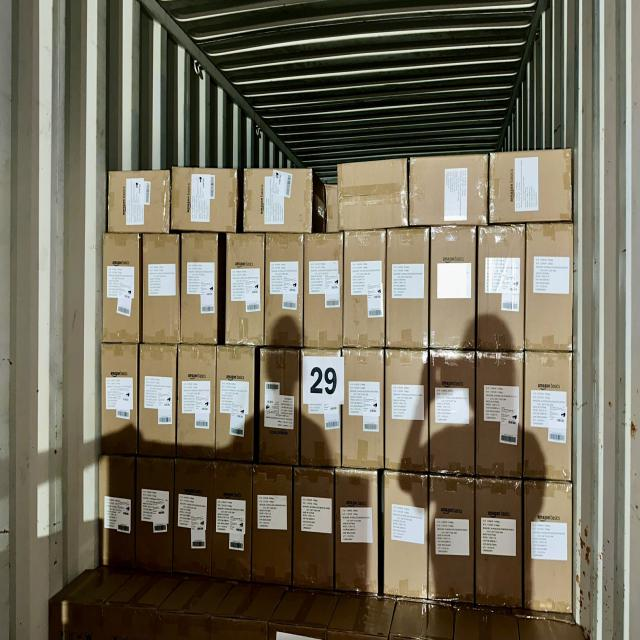Carton: (527, 482, 574, 617), (492, 153, 576, 226), (477, 477, 523, 610), (407, 152, 487, 228), (526, 353, 573, 482), (477, 350, 524, 478), (529, 225, 576, 353), (384, 474, 430, 602), (477, 226, 524, 350), (429, 478, 474, 606), (429, 348, 475, 472), (430, 230, 475, 353), (336, 472, 380, 597), (335, 158, 408, 231), (383, 347, 426, 469), (299, 346, 342, 466), (292, 469, 334, 591), (389, 232, 431, 350), (344, 346, 384, 468), (214, 343, 255, 461), (344, 231, 385, 347), (261, 346, 301, 464), (255, 466, 294, 586), (302, 233, 342, 349), (213, 461, 251, 583), (180, 342, 219, 456), (265, 234, 304, 348), (223, 233, 263, 344), (177, 458, 214, 578), (247, 172, 316, 236), (173, 171, 240, 236), (135, 457, 172, 574), (141, 236, 180, 346), (139, 344, 177, 456), (103, 345, 141, 457), (182, 232, 220, 343), (101, 458, 138, 572), (104, 232, 142, 342), (109, 173, 172, 237)
